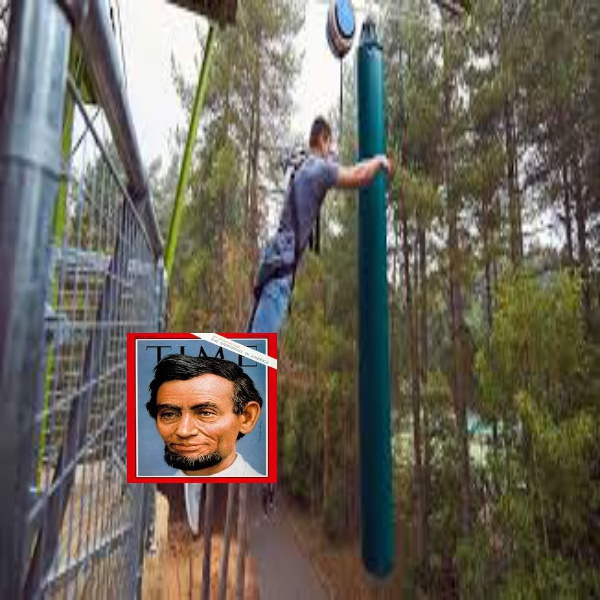time_cover: (122, 318, 278, 485)
